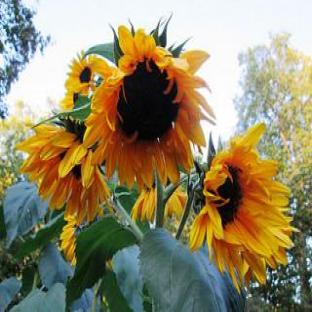sunflower: (189, 124, 293, 284)
